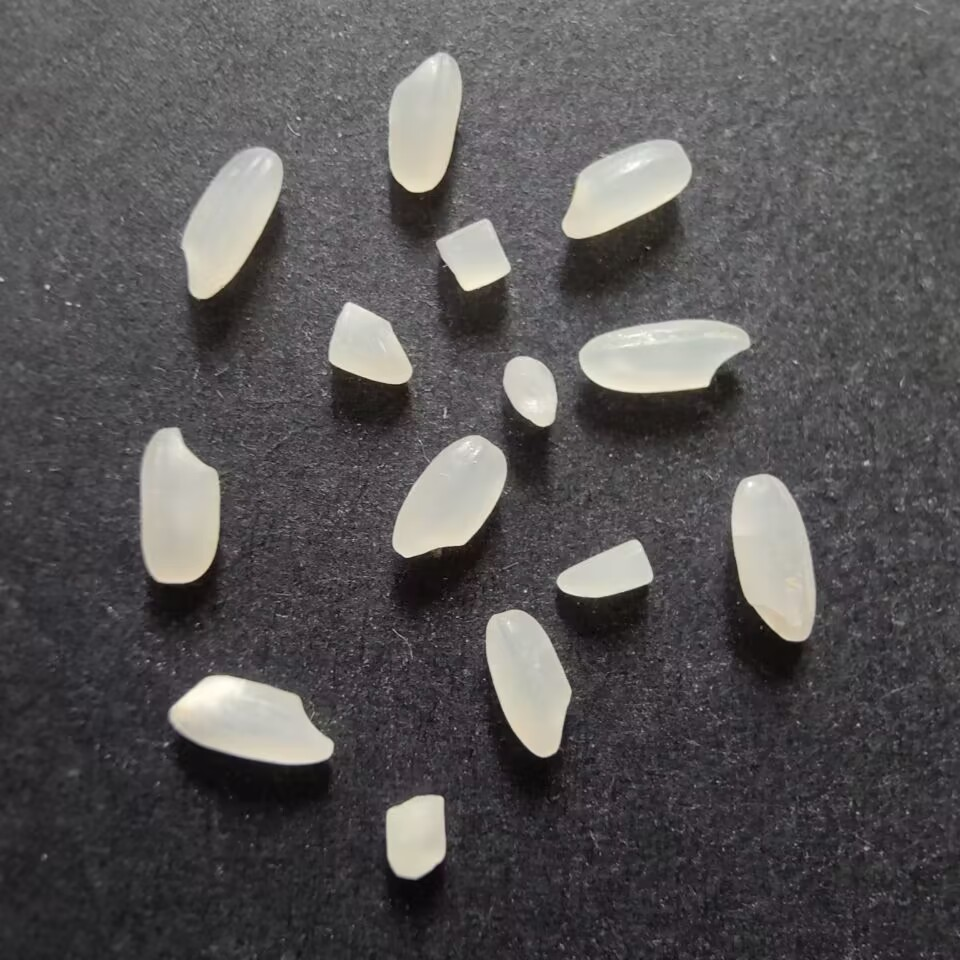broken: (325, 298, 417, 390), (552, 531, 660, 599), (376, 789, 450, 888), (430, 218, 512, 294), (498, 350, 562, 431)
rice: (160, 671, 340, 771), (177, 144, 285, 301), (730, 468, 822, 649), (386, 430, 509, 560), (135, 422, 226, 590), (481, 606, 575, 765), (556, 136, 699, 239), (571, 317, 755, 395), (384, 46, 463, 195)
